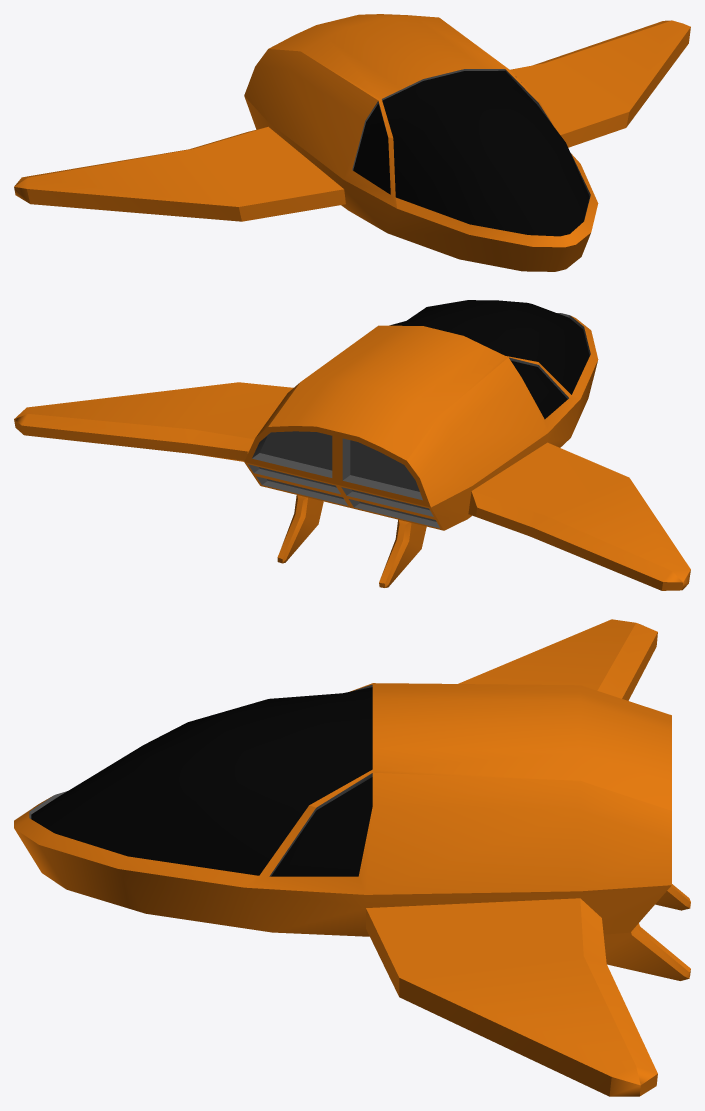
The model's file is ShipPlayerConversion.FBX.
3 renders of one model, top to bottom at view 1: azimuth 30°, elevation 25°; view 2: azimuth 150°, elevation 25°; view 3: azimuth 270°, elevation 25°, orthographic. The views are drawn at different scales.
Parts seen in each view (by area): view 1: Ship POD Resize; view 2: Ship POD Resize; view 3: Ship POD Resize.
Boxes of the visible parts, x1=… form: Ship POD Resize: x1=14, y1=14, x2=690, y2=271; Ship POD Resize: x1=14, y1=300, x2=690, y2=590; Ship POD Resize: x1=14, y1=619, x2=690, y2=1096.
Bounding box in the file's own units: 492 × 115 × 305.
